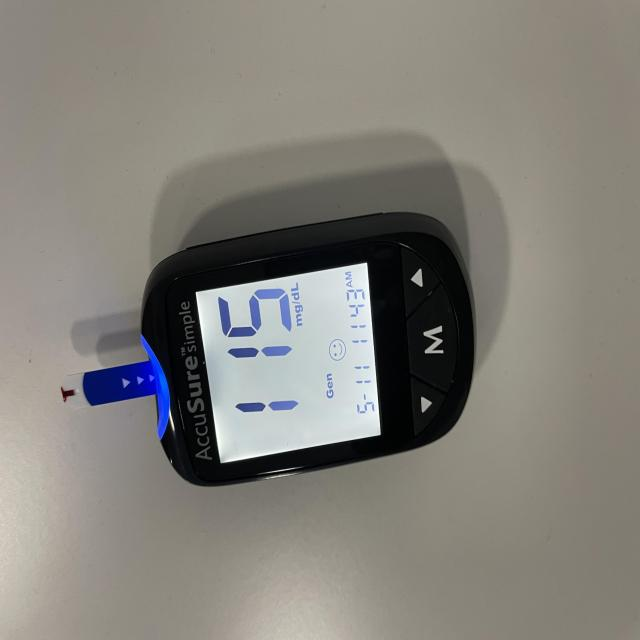gluco: (85, 137, 478, 490)
